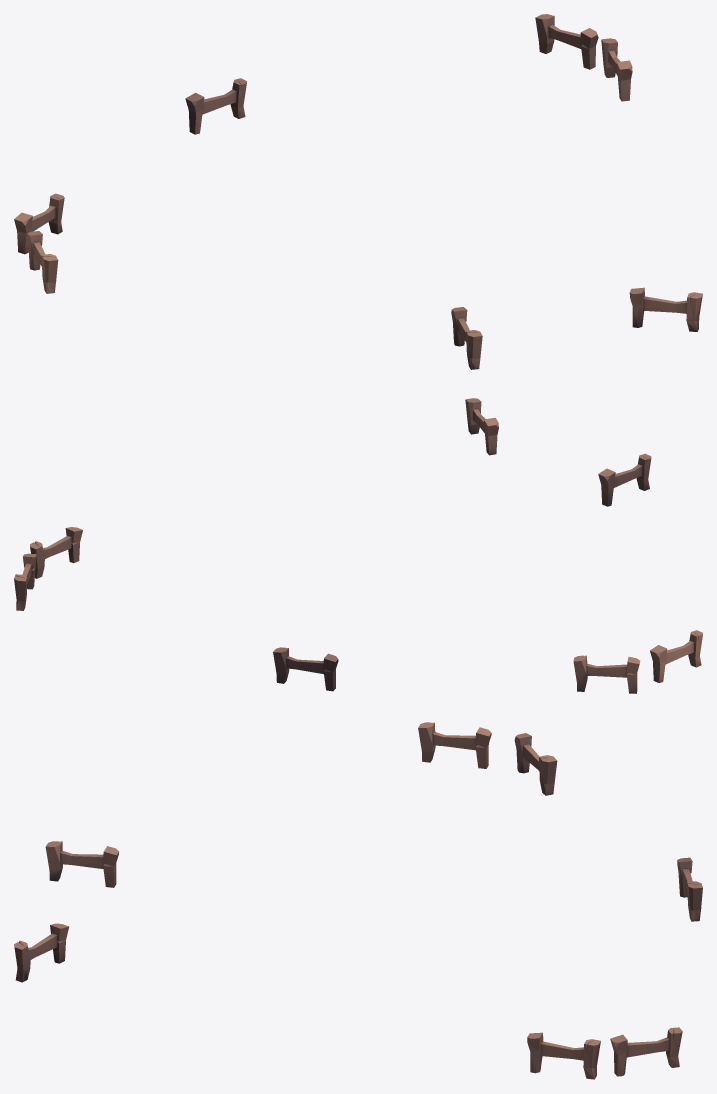
File: Wood_02.FBX
The picture shows the model from 3 angles, top to bottom: view 1: azimuth 30°, elevation 25°; view 2: azimuth 150°, elevation 25°; view 3: azimuth 270°, elevation 25°; orthographic projection. The views are drawn at different scales.
Visible parts, largest first — view 1: Wood_02; view 2: Wood_02; view 3: Wood_02.
Boxes of the visible parts, box(x1,y1,x2,y2) form: Wood_02: box(14, 14, 702, 369); Wood_02: box(14, 398, 702, 693); Wood_02: box(14, 722, 702, 1079).
Size of the model in its own units: 18.34 by 0.9577 by 16.52.
